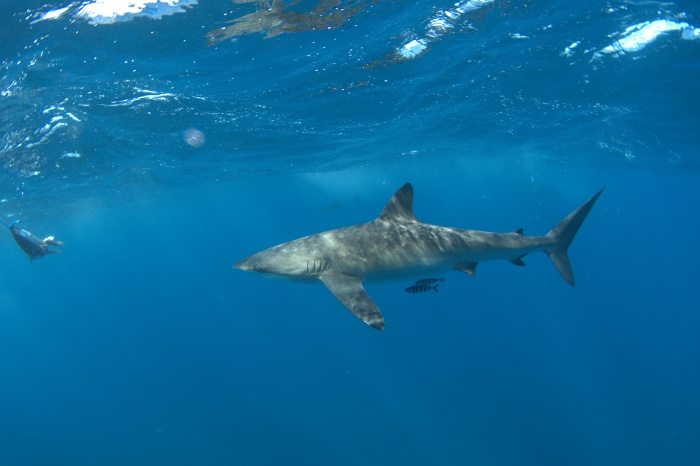Sedoso: (227, 177, 607, 341)
